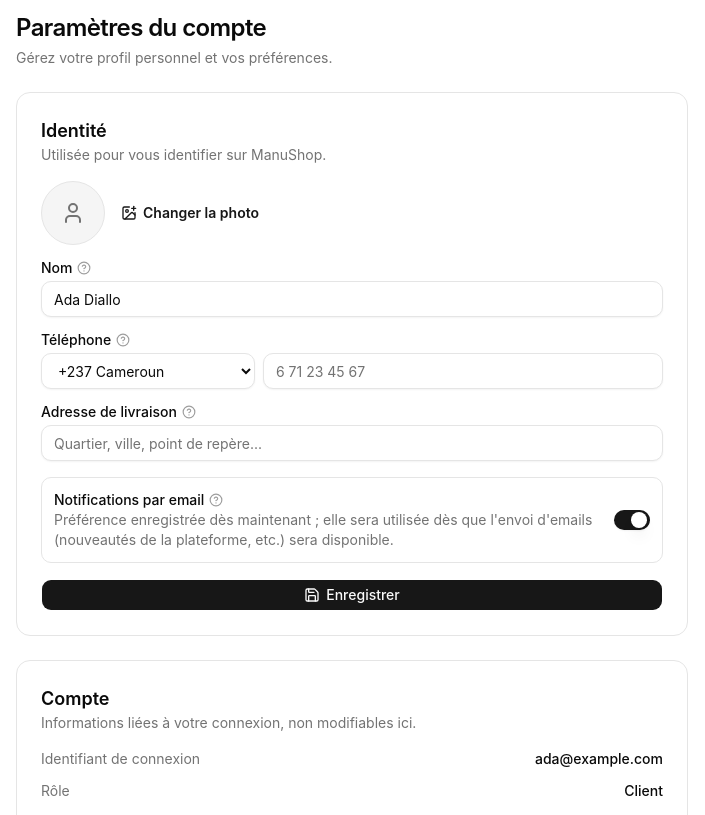
AccountSettingsForm › saves the updated profile and refreshes it
Replace the text in the field labelled "Nom" with "Ada K. Diallo": (352, 299) [41,281,663,317]
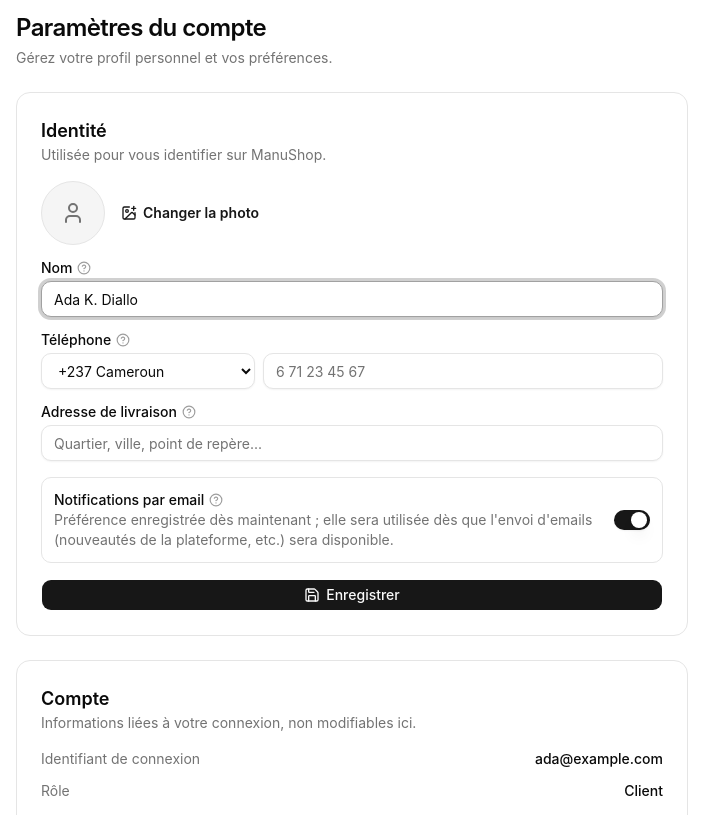
Click the button "Enregistrer": (352, 595) [41,579,663,611]
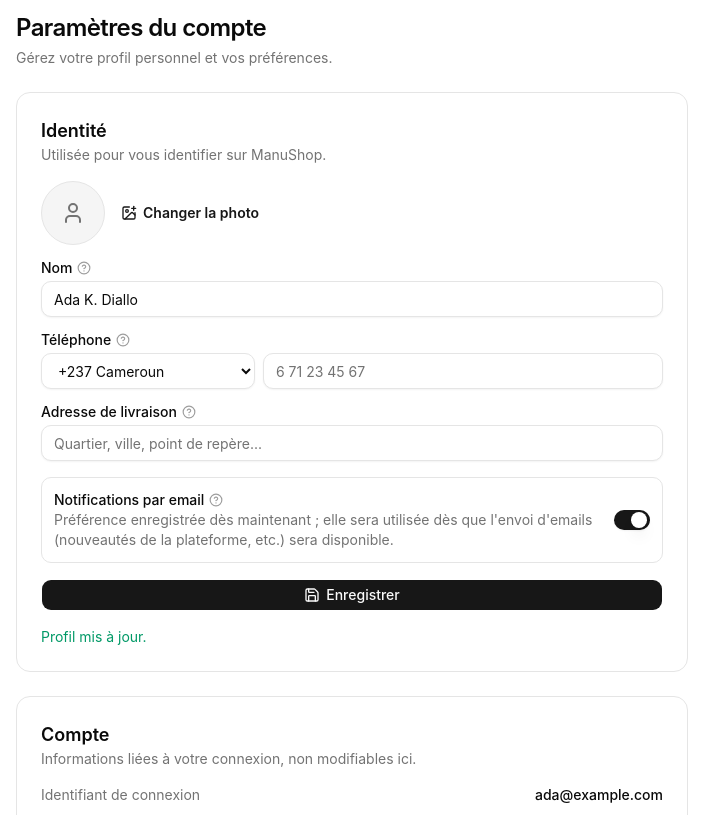
Expected: the text "Profil mis à jour." is shown, [41,628,146,645]
